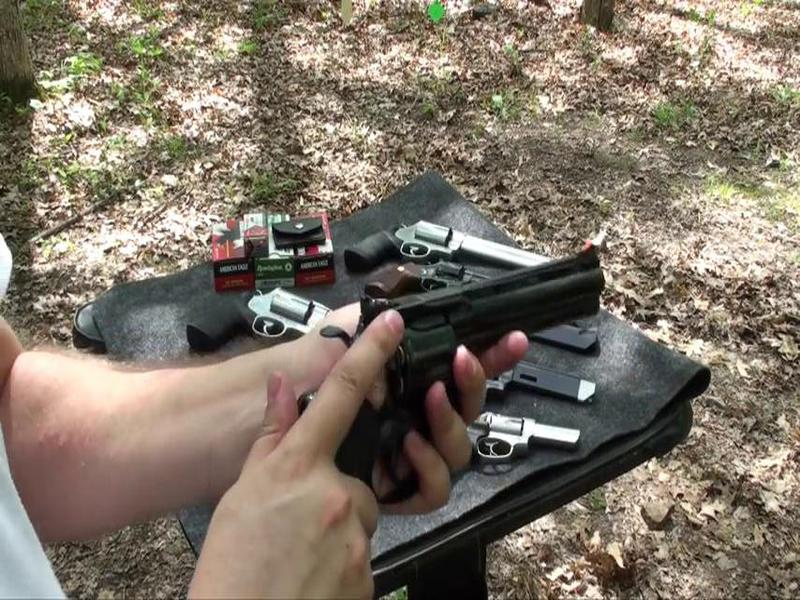Revolver: (284, 244, 622, 532)
